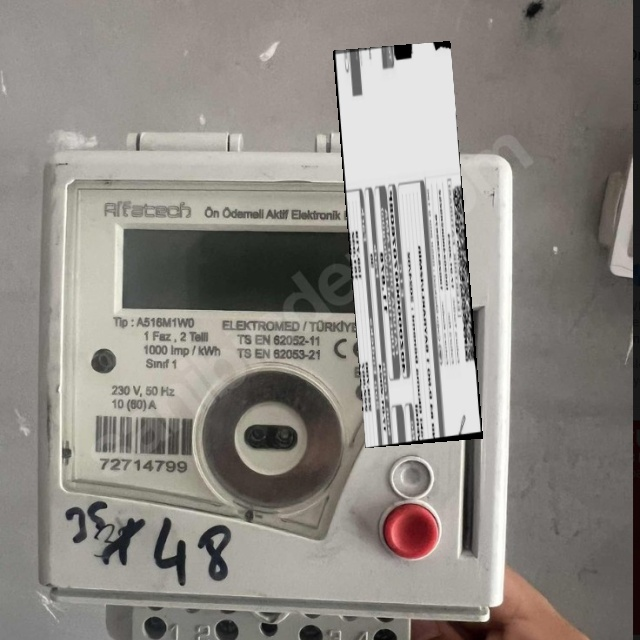electricity-bill: (333, 40, 483, 448)
